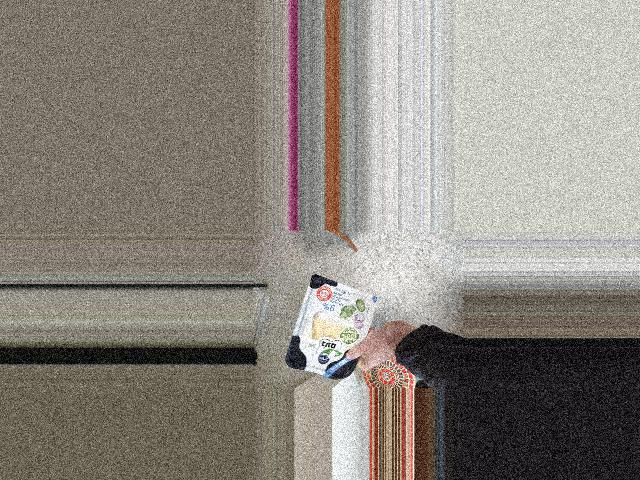cheese: (284, 274, 375, 380)
